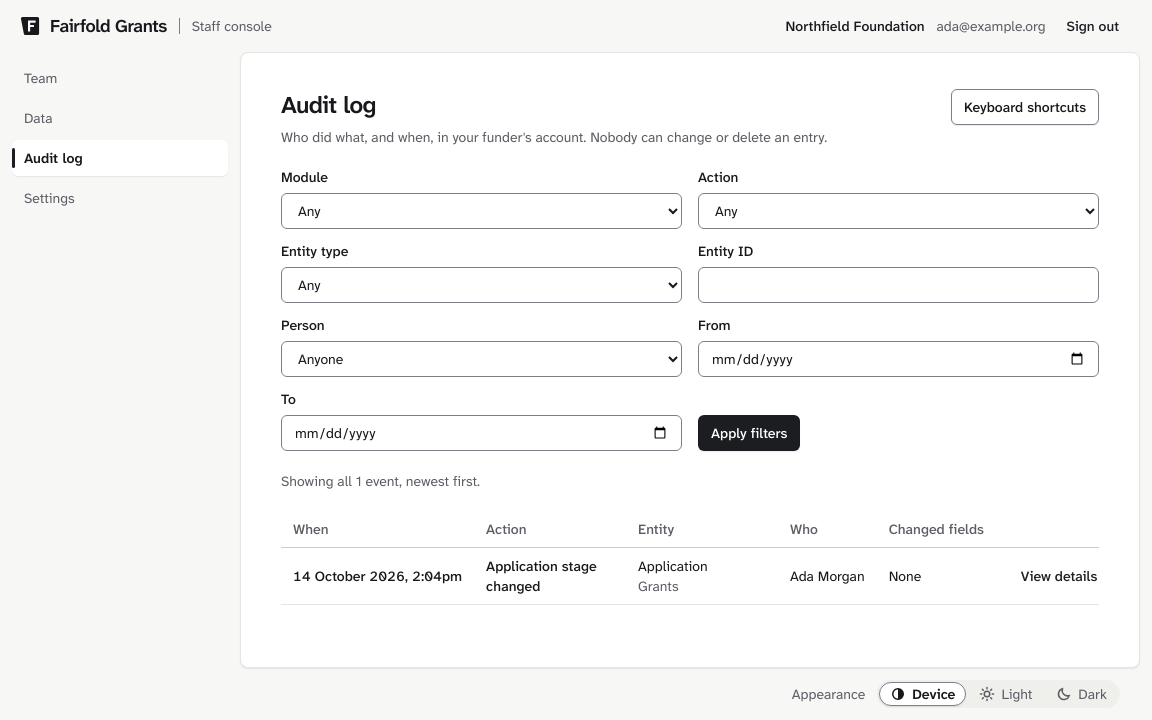
it: the audit log › applies the filters only when asked, and puts them in the address
Check: the table is shown, box 281,511 -> 1099,605
Select "Grants" in the dropdown labelled "Module": {"x": 482, "y": 211} 281,193 -> 682,229
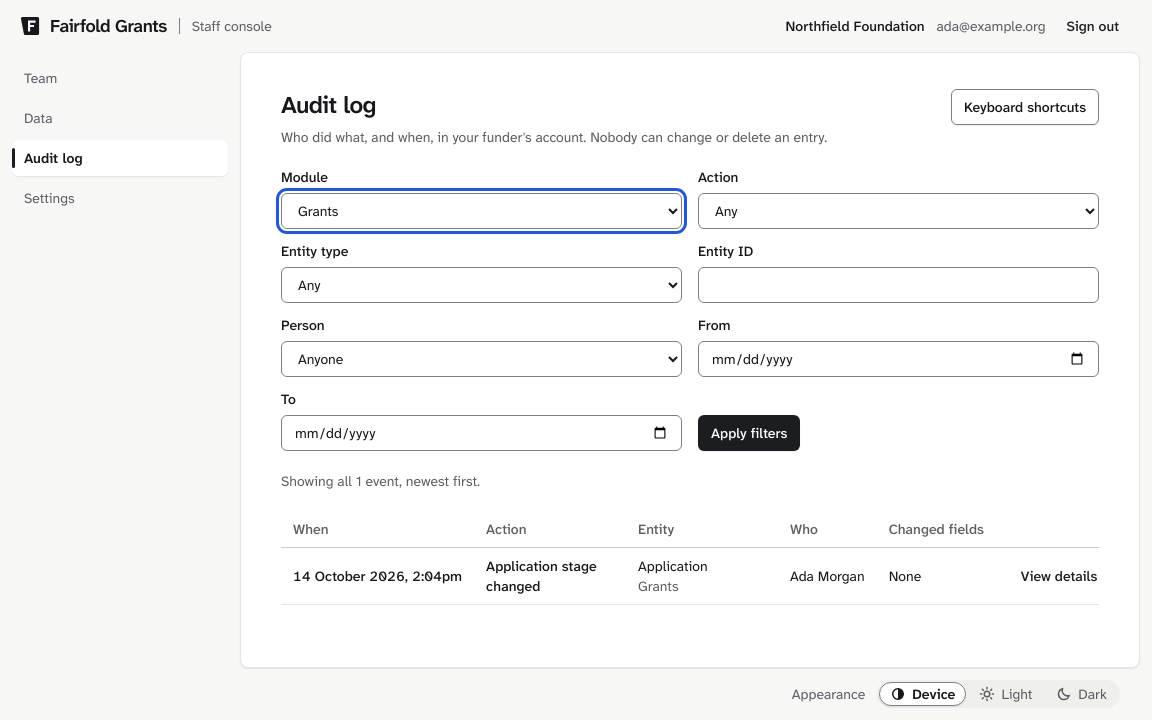
Select "Ada Morgan" in the dropdown labelled "Person": {"x": 482, "y": 359} 281,341 -> 682,377
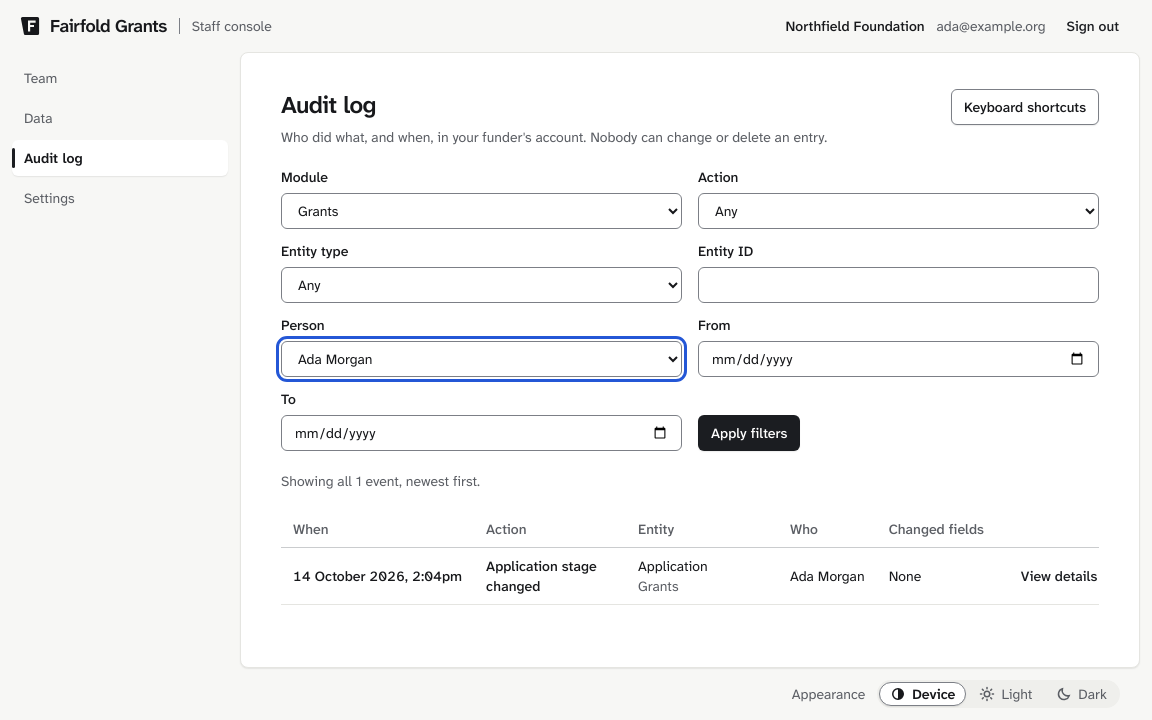
Click the button "Apply filters": {"x": 749, "y": 433} 698,415 -> 800,451
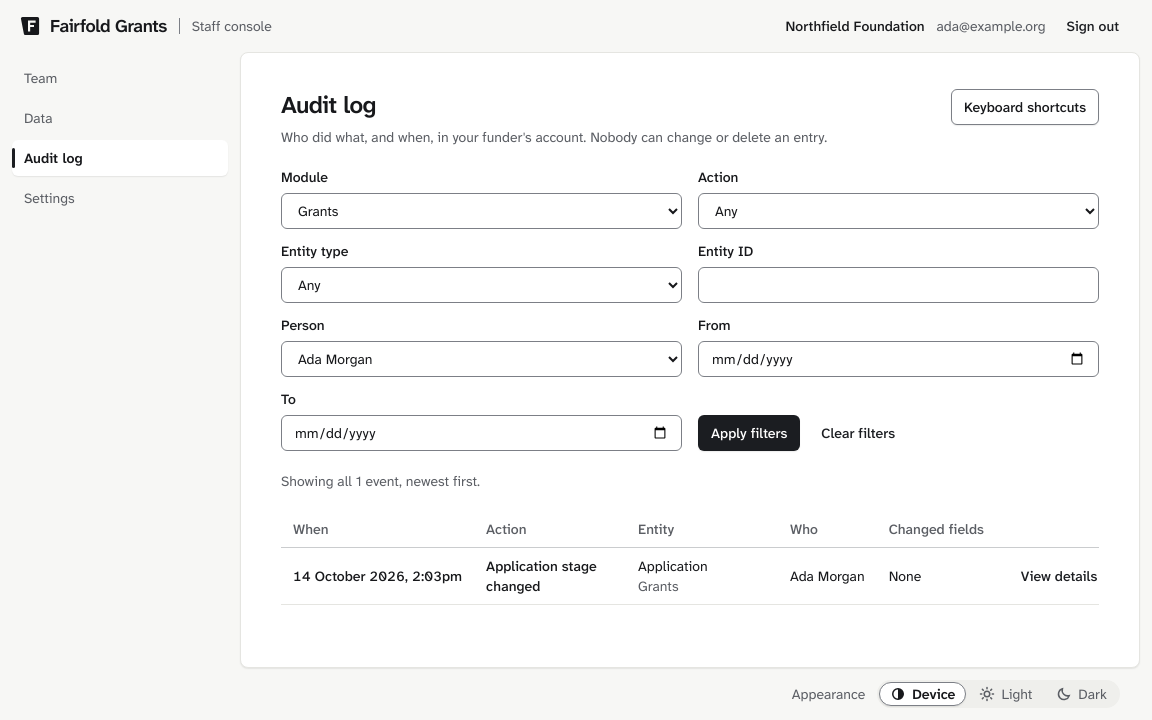
Check: the column heading "14 October 2026, 2:03pm" is shown, box 281,548 -> 474,604
